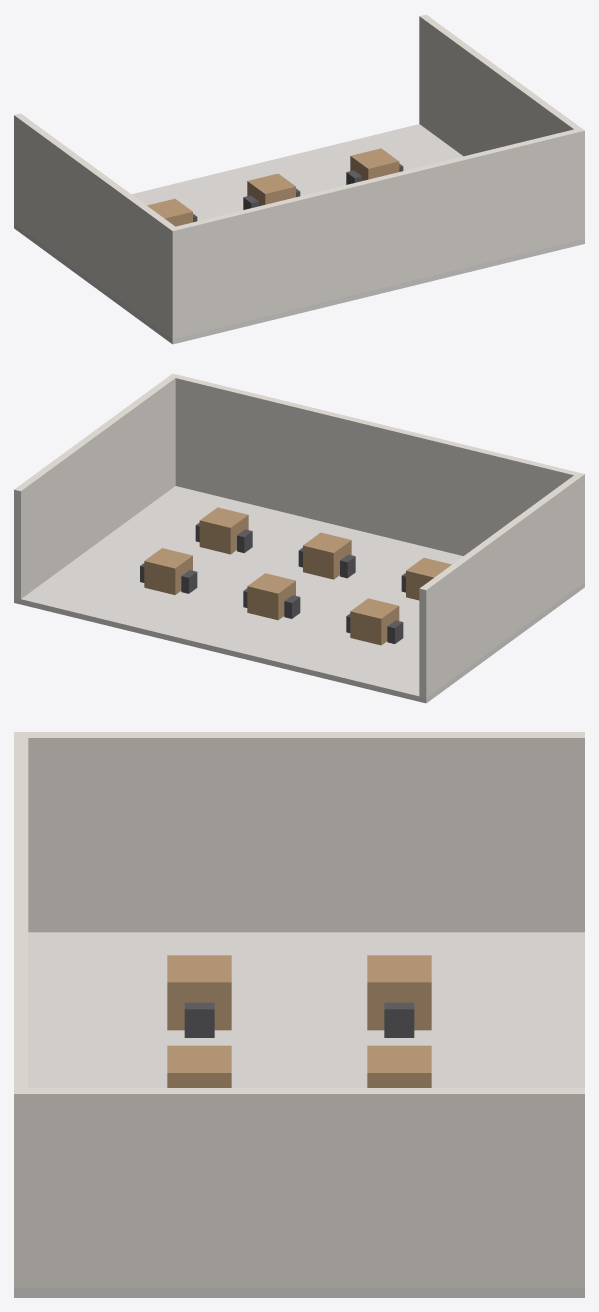
File: cafe_CN002.glb
3 renders of one model, top to bottom at view 1: azimuth 30°, elevation 25°; view 2: azimuth 150°, elevation 25°; view 3: azimuth 270°, elevation 25°, orthographic. The views are drawn at different scales.
Parts seen in each view (by area): view 1: C2_wall_back, C2_wall_left, C2_floor, C2_wall_right, BAN_B103, BAN_B102, BAN_B101; view 2: C2_floor, C2_wall_back, C2_wall_left, C2_wall_right, BAN_B101, BAN_B106, BAN_B102, BAN_B103, BAN_B105, BAN_B104; view 3: C2_wall_right, C2_wall_left, C2_floor, C2_wall_back, BAN_B101, BAN_B104, BAN_B102, BAN_B105, B101_ch2, B104_ch2.
Boxes of the visible parts, x1,y1,x2,y2 form: C2_wall_back: [168, 128, 584, 338]; C2_wall_left: [14, 113, 179, 338]; C2_floor: [14, 124, 584, 344]; C2_wall_right: [419, 14, 584, 239]; BAN_B103: [350, 148, 399, 180]; BAN_B102: [247, 173, 295, 206]; BAN_B101: [147, 198, 192, 226]; C2_floor: [14, 486, 584, 703]; C2_wall_back: [169, 373, 584, 582]; C2_wall_left: [419, 472, 584, 697]; C2_wall_right: [14, 374, 178, 598]; BAN_B101: [350, 598, 399, 645]; BAN_B106: [199, 507, 248, 554]; BAN_B102: [247, 573, 295, 620]; BAN_B103: [144, 548, 192, 594]; BAN_B105: [303, 532, 351, 579]; BAN_B104: [406, 557, 451, 600]; C2_wall_right: [14, 1088, 584, 1287]; C2_wall_left: [14, 732, 584, 932]; C2_floor: [14, 932, 584, 1297]; C2_wall_back: [14, 732, 28, 1287]; BAN_B101: [367, 955, 431, 1030]; BAN_B104: [167, 955, 231, 1030]; BAN_B102: [367, 1045, 431, 1087]; BAN_B105: [167, 1045, 231, 1087]; B101_ch2: [384, 1002, 414, 1037]; B104_ch2: [184, 1002, 214, 1037].
Bounding box in the file's own units: 12 × 3.15 × 8.
